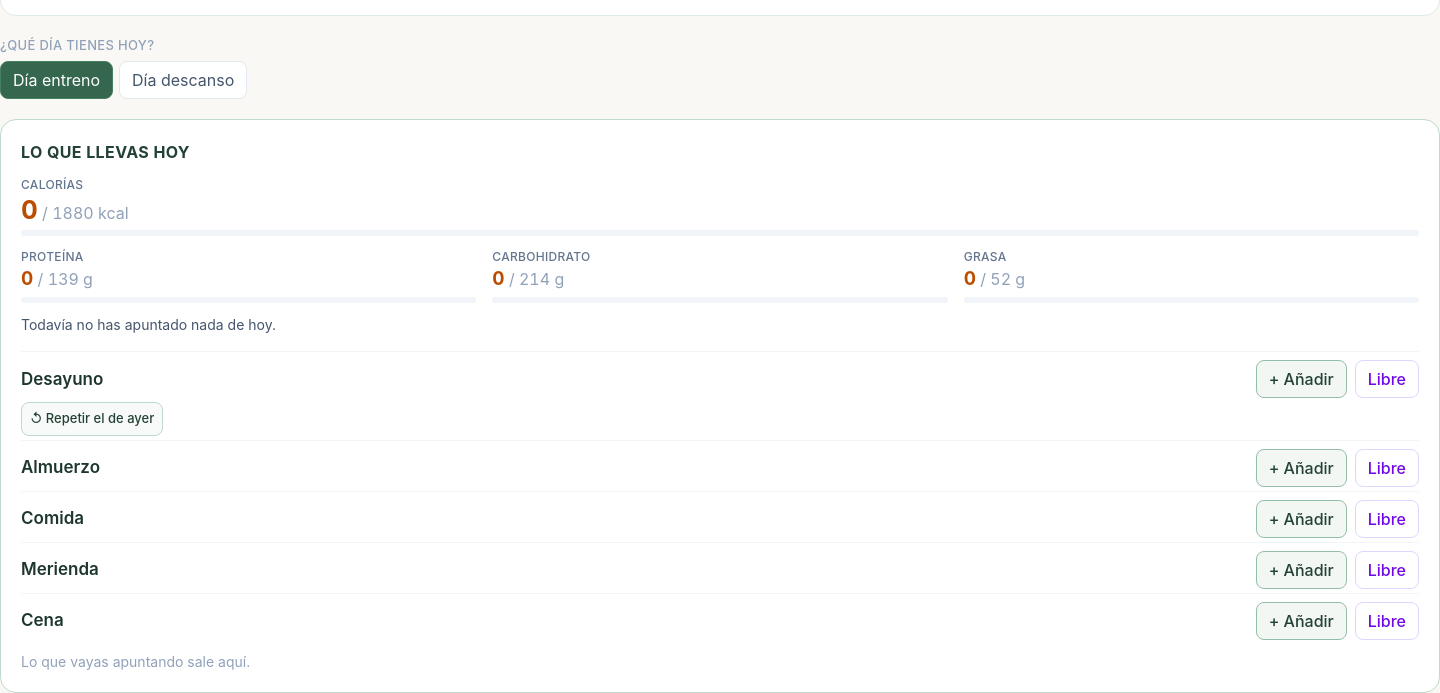
Repetir la comida de otro día › y entonces esa comida ya se puede guardar con nombre
(page scrolled)
Click the button "↺ Repetir el de ayer" at (92, 419), box x1=21 y1=402 x2=163 y2=436
(page scrolled)
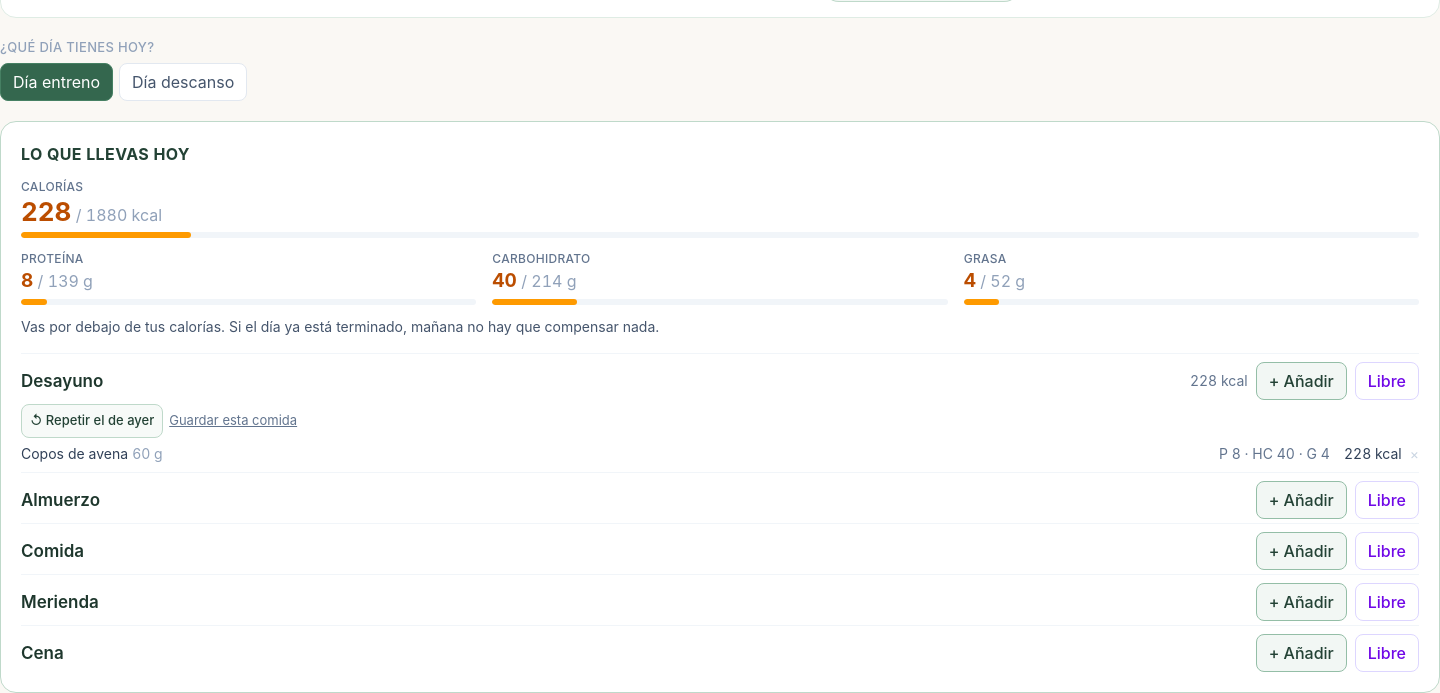
Click the button "Guardar esta comida" at (233, 421), box x1=169 y1=411 x2=297 y2=431
(page scrolled)
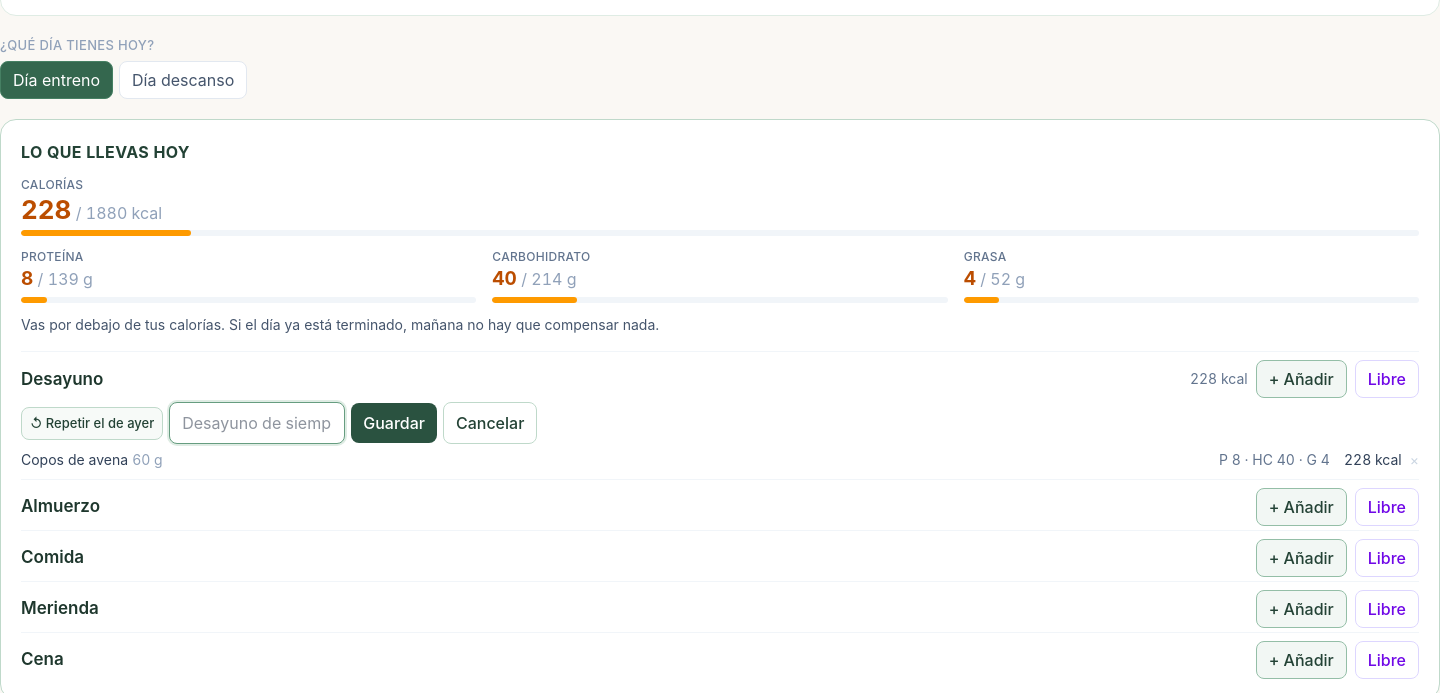
Type "Pancakes de avena" into the field with placeholder "Desayuno de siempre" at (257, 423), box x1=169 y1=402 x2=345 y2=444
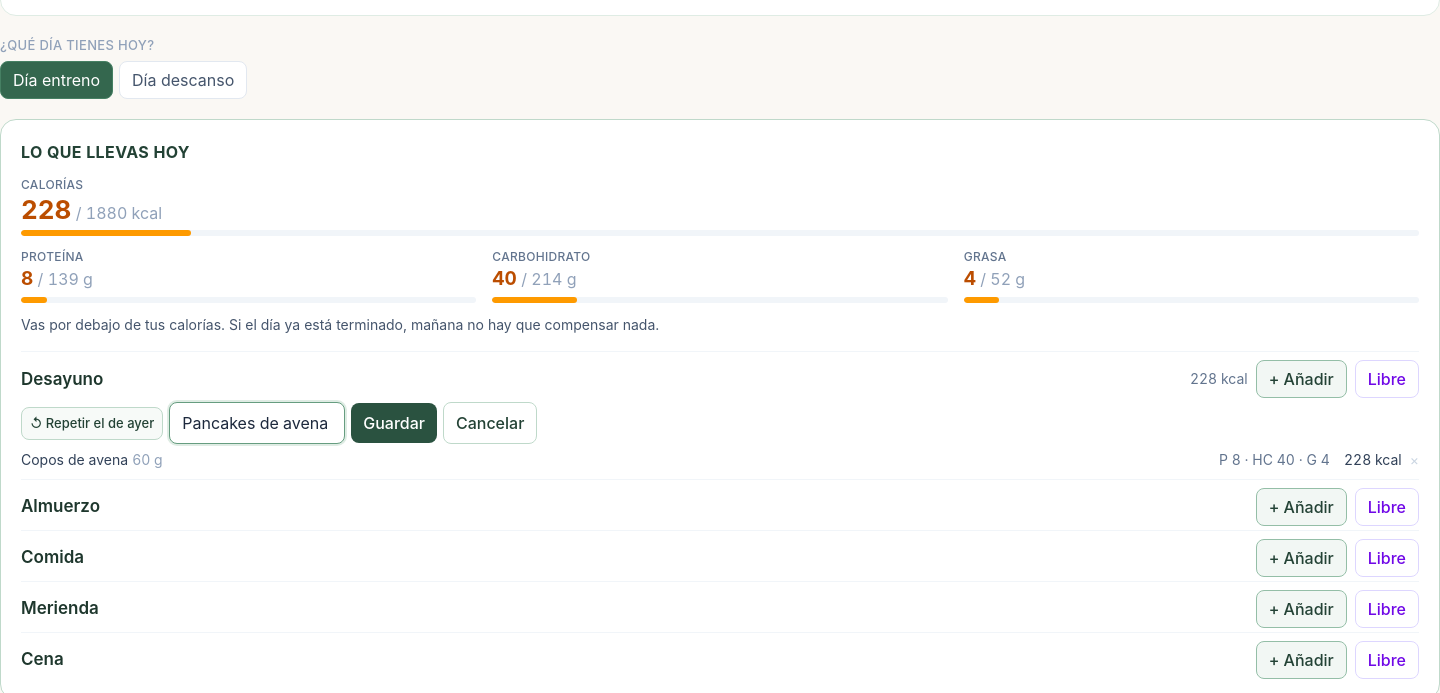
Click the button "Guardar" at (394, 423), box x1=351 y1=403 x2=437 y2=443
(page scrolled)
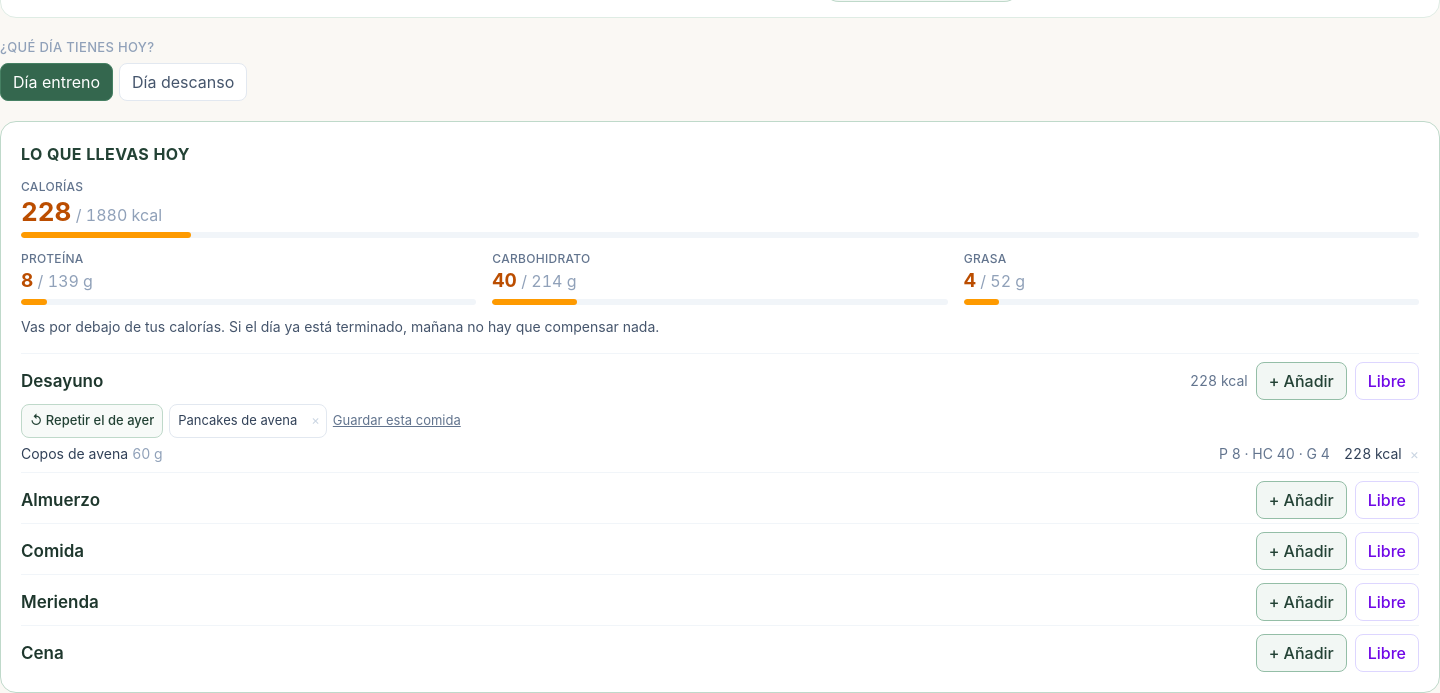
Expected: the button "Pancakes de avena" is shown, x1=170 y1=405 x2=305 y2=437
